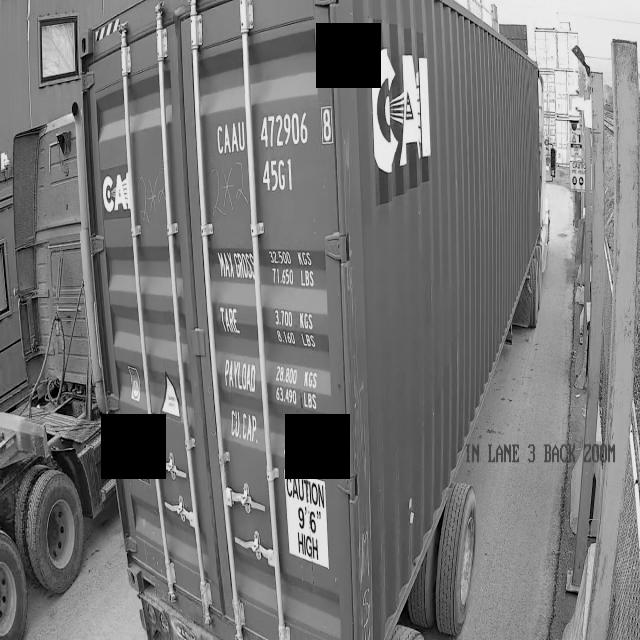container_company_logo: (98, 158, 139, 222)
container_number: (214, 112, 318, 195)
other_container_info: (218, 243, 332, 469)
truck_trailer: (0, 113, 114, 637)
truck_with_container: (80, 0, 550, 639)
